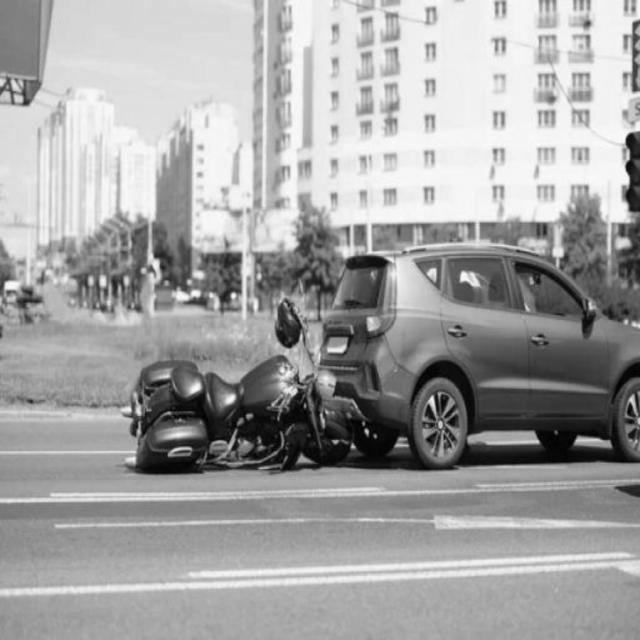accident: (125, 235, 640, 476)
